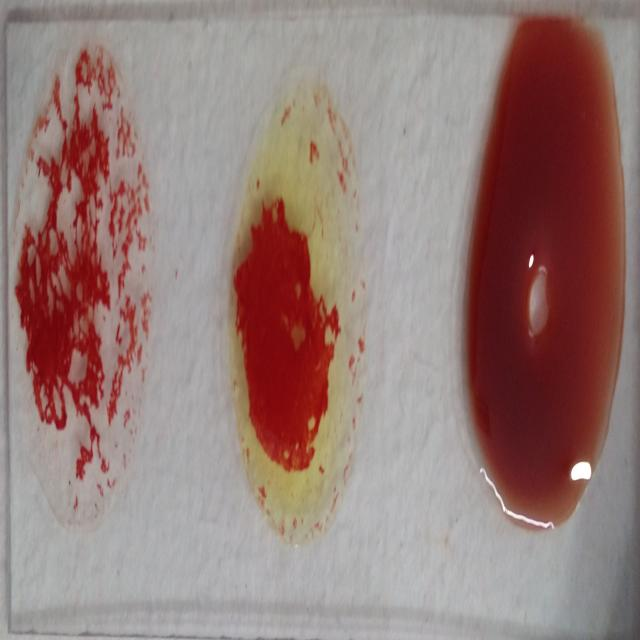B: (231, 71, 366, 549)
D: (15, 41, 155, 532)
